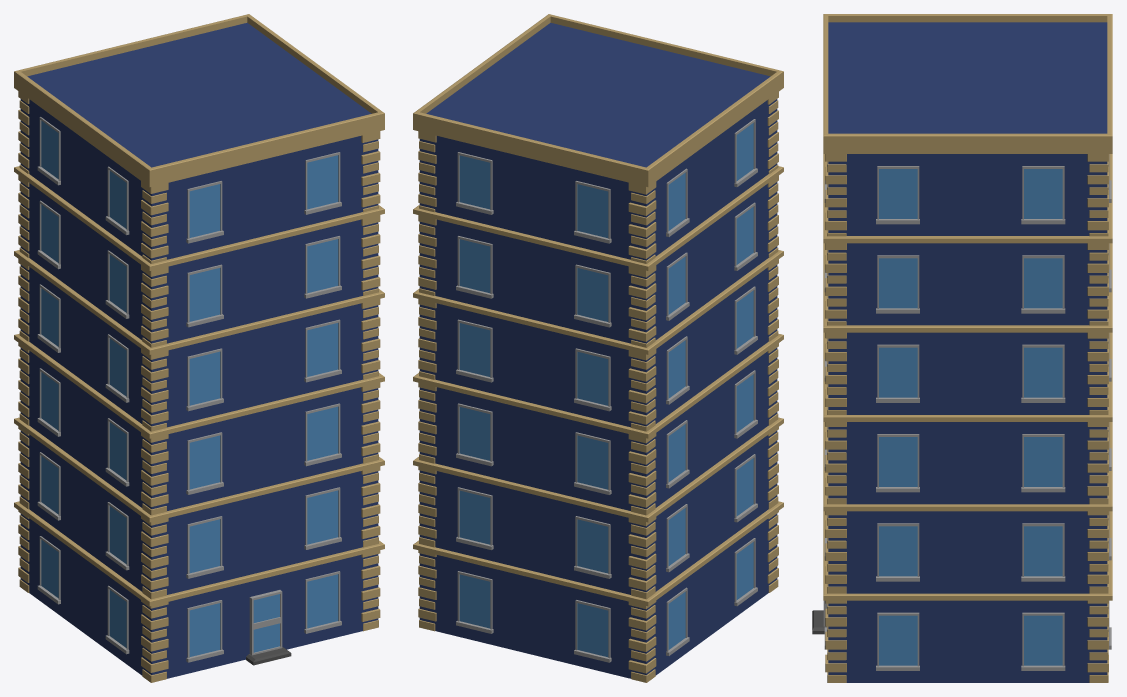
File: GebouwBlauwZonderTrap.fbx
The picture shows the model from 3 angles, left to right: view 1: azimuth 30°, elevation 25°; view 2: azimuth 150°, elevation 25°; view 3: azimuth 270°, elevation 25°; orthographic projection. The views are drawn at different scales.
Parts seen in each view (by area): view 1: gebouwBlauwZonderTrap; view 2: gebouwBlauwZonderTrap; view 3: gebouwBlauwZonderTrap.
Boxes of the visible parts, box(x1,y1,x2,y2) form: gebouwBlauwZonderTrap: box(14, 14, 384, 682); gebouwBlauwZonderTrap: box(413, 14, 783, 682); gebouwBlauwZonderTrap: box(812, 14, 1112, 682).
Bounding box in the file's own units: 622 × 1304 × 645.
